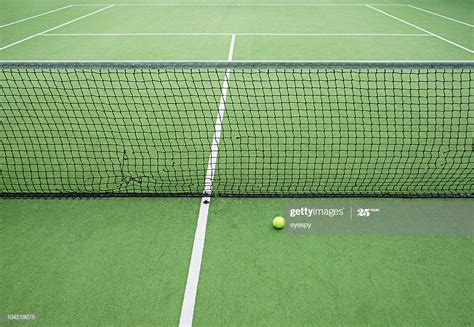tennis_ball: (273, 216, 285, 229)
